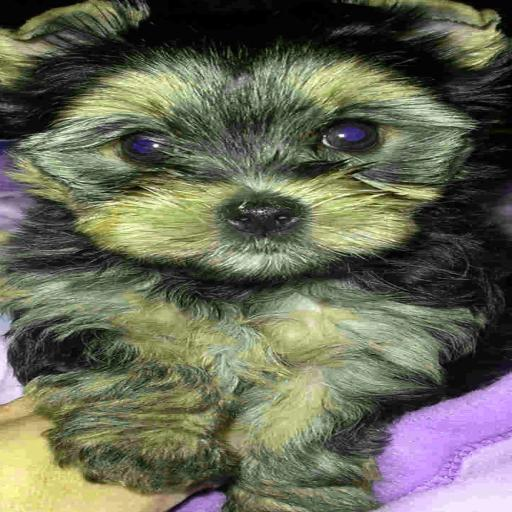dog_face: (0, 5, 504, 269)
